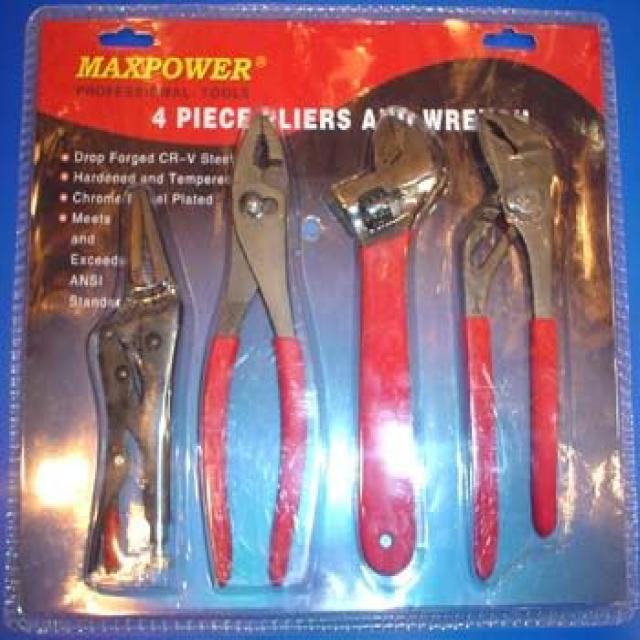wrench: (318, 116, 435, 520)
